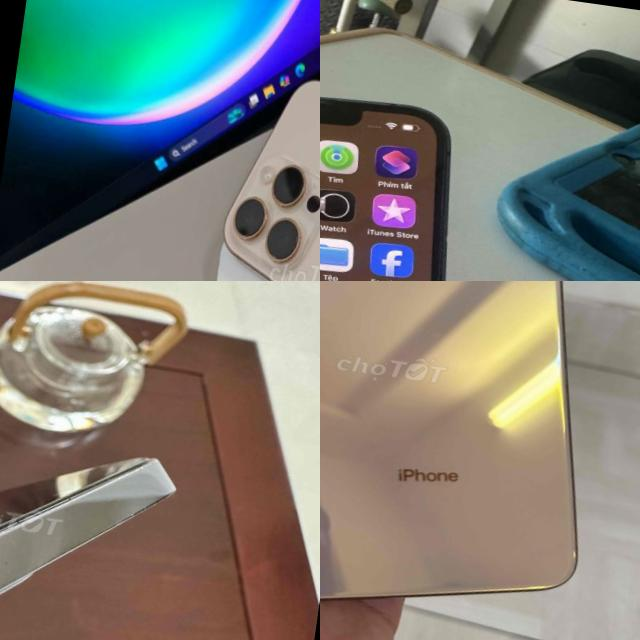gen_12_13: (0, 387, 187, 640), (320, 73, 514, 281)
gen_16: (200, 69, 320, 281)
gen_x_xs: (320, 281, 577, 601)
